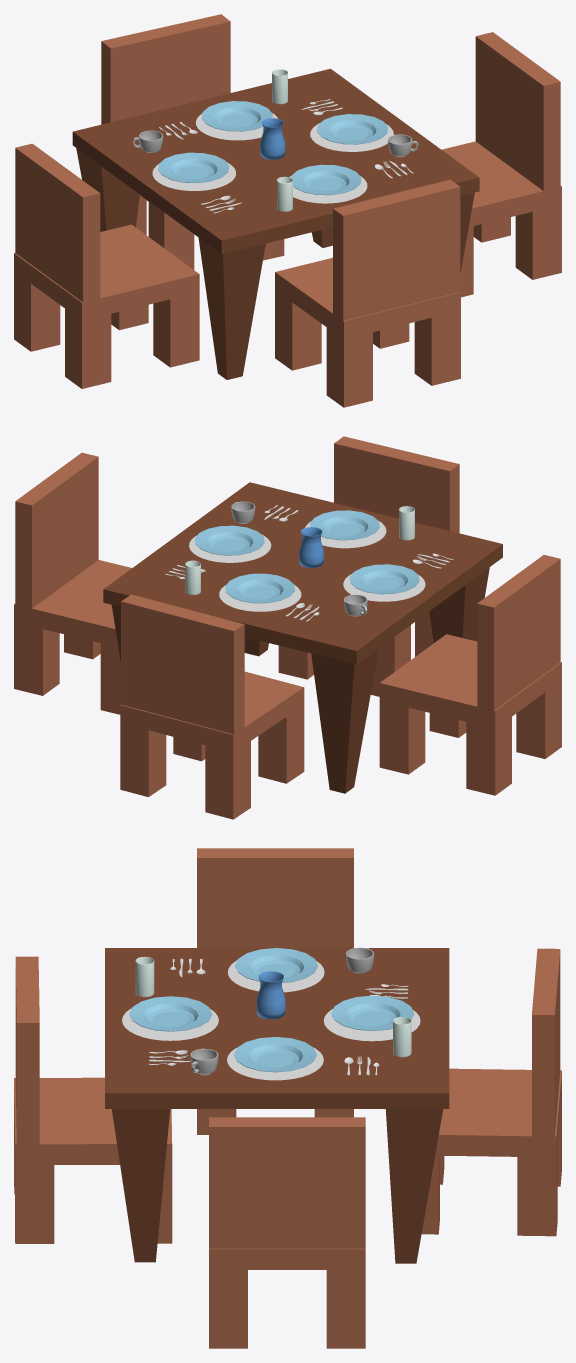
The model's file is complete dining table.fbx.
3 views of the same model, one above another, from view 1: azimuth 30°, elevation 25°; view 2: azimuth 150°, elevation 25°; view 3: azimuth 270°, elevation 25° (orthographic). The views are drawn at different scales.
Parts seen in each view (by area): view 1: Cube.003, Cube.004, Cube.001, Cube.002, Cube.005, Dinner Plate 34x3cm.003, Dinner Plate 34x3cm, Dinner Plate 34x3cm.002, Dinner Plate 34x3cm.001, Cylinder, Circle.001, Circle (+6 smaller); view 2: Cube.003, Cube.005, Cube.001, Cube.002, Cube.004, Dinner Plate 34x3cm, Dinner Plate 34x3cm.001, Dinner Plate 34x3cm.003, Dinner Plate 34x3cm.002, Cylinder, Circle.003, Circle (+5 smaller); view 3: Cube.003, Cube.002, Cube.005, Cube.001, Cube.004, Dinner Plate 34x3cm.002, Dinner Plate 34x3cm.003, Dinner Plate 34x3cm.001, Dinner Plate 34x3cm, Cylinder, Circle.002, Circle (+6 smaller).
Part boxes in pixels (x1,y1,x2,y2): Cube.003: (72, 68, 479, 379); Cube.004: (275, 179, 460, 407); Cube.001: (14, 143, 199, 388); Cube.002: (442, 32, 561, 297); Cube.005: (101, 14, 284, 269); Dinner Plate 34x3cm.003: (317, 114, 387, 144); Dinner Plate 34x3cm: (158, 152, 229, 183); Dinner Plate 34x3cm.002: (291, 164, 361, 195); Dinner Plate 34x3cm.001: (201, 101, 272, 131); Cylinder: (260, 118, 285, 159); Circle.001: (152, 162, 236, 190); Circle: (310, 123, 393, 151); Cube.003: (103, 482, 502, 793); Cube.005: (120, 594, 304, 819); Cube.001: (379, 555, 561, 795); Cube.002: (14, 452, 131, 714); Cube.004: (278, 436, 459, 696); Dinner Plate 34x3cm: (349, 564, 419, 594); Dinner Plate 34x3cm.001: (225, 573, 294, 603); Dinner Plate 34x3cm.003: (194, 525, 264, 555); Dinner Plate 34x3cm.002: (310, 510, 379, 540); Cylinder: (299, 527, 324, 568); Circle.003: (219, 585, 301, 611); Circle: (189, 534, 271, 562); Cube.003: (105, 948, 449, 1263); Cube.002: (209, 1117, 365, 1348); Cube.005: (421, 948, 561, 1236); Cube.001: (197, 848, 353, 1134); Cube.004: (14, 956, 172, 1243); Dinner Plate 34x3cm.002: (129, 996, 211, 1031); Dinner Plate 34x3cm.003: (234, 1037, 316, 1072); Dinner Plate 34x3cm.001: (331, 995, 414, 1030); Dinner Plate 34x3cm: (235, 948, 317, 982); Cylinder: (256, 971, 285, 1019); Circle.002: (122, 1008, 218, 1040); Circle: (227, 1048, 323, 1080).
Size of the model in its own units: 825 by 320 by 698.
